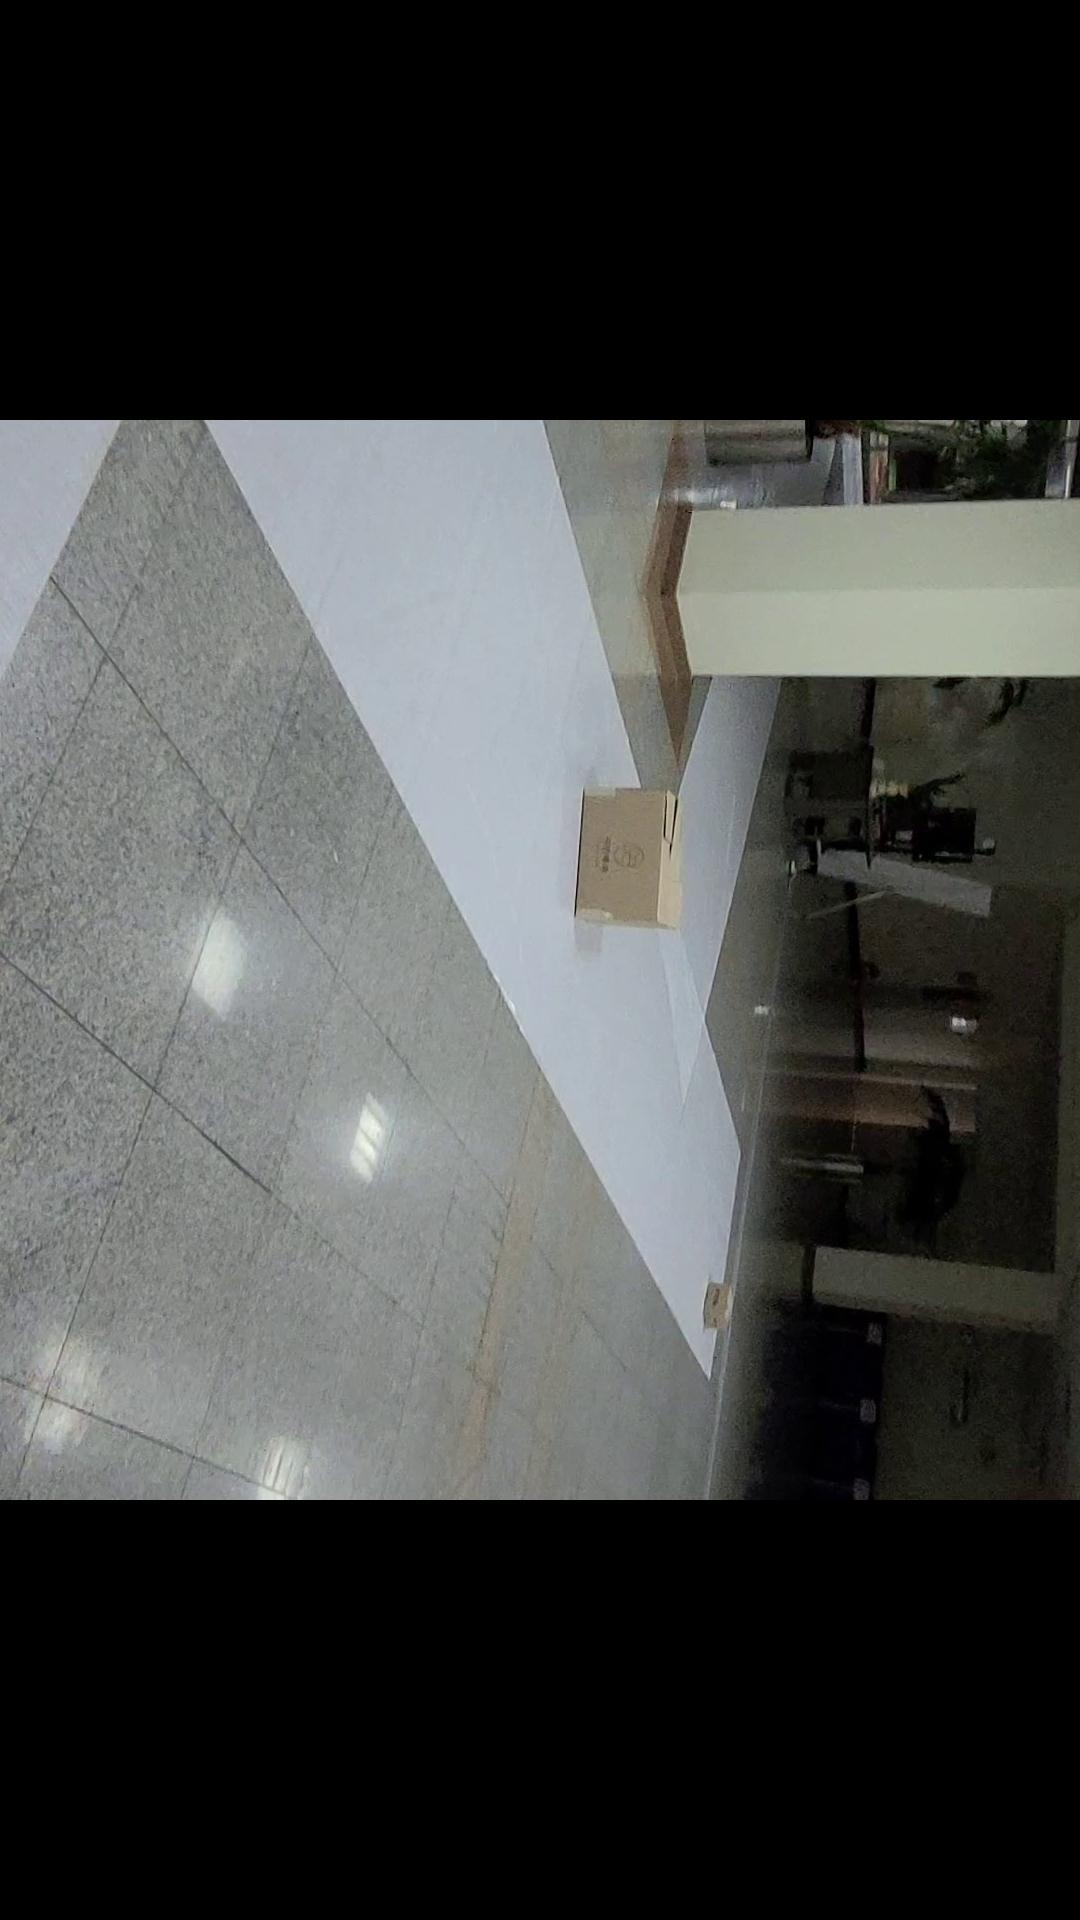Box: (558, 778, 695, 955), (682, 1280, 757, 1340)
